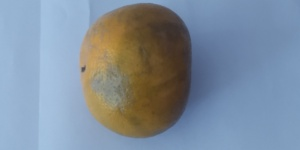BAD: (81, 3, 192, 140)
